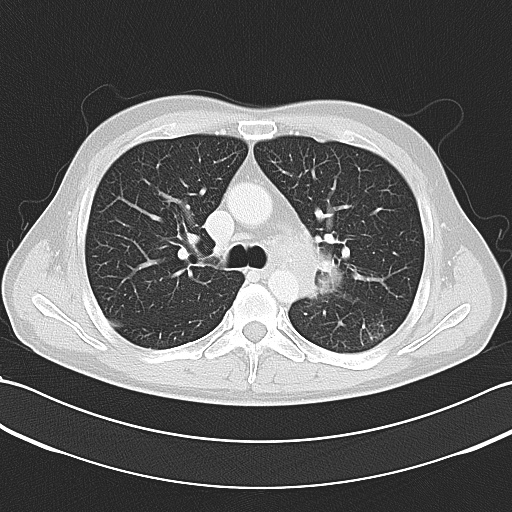Copy of Copy of Copy of cancer: (327, 249, 364, 302)
Copy of Copy of cancer: (297, 249, 334, 302)
Copy of cancer: (309, 227, 346, 280)
cancer: (315, 250, 352, 303), (307, 242, 340, 301)
non-cancer: (218, 305, 290, 380)
